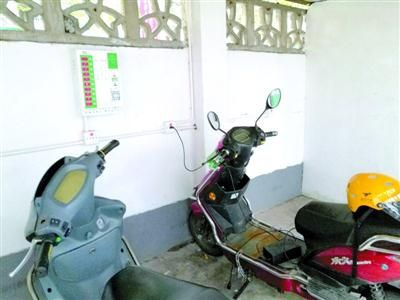non-vehicle: (186, 90, 396, 297), (11, 135, 213, 298)
